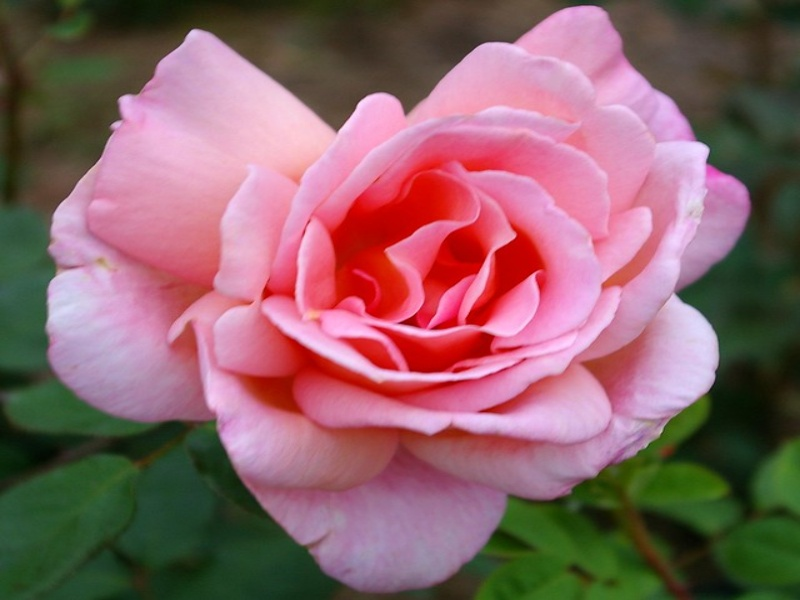rose: (34, 15, 779, 580)
